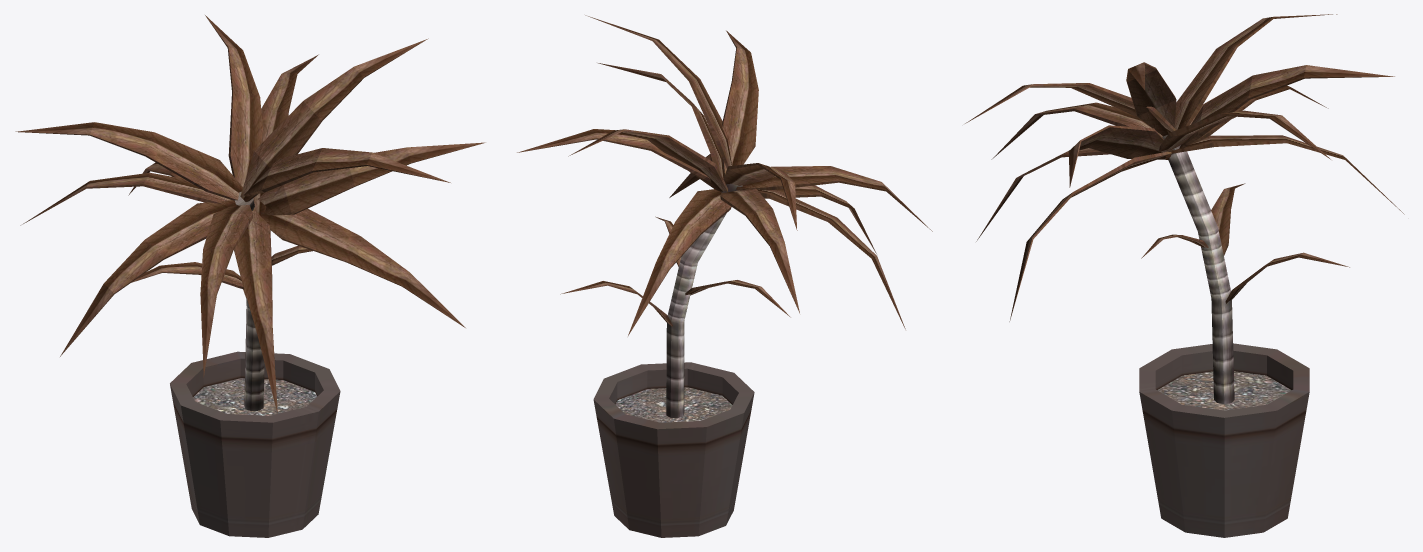
The model's file is Plant4.obj.
The picture shows the model from 3 angles, left to right: view 1: azimuth 30°, elevation 25°; view 2: azimuth 150°, elevation 25°; view 3: azimuth 270°, elevation 25°; orthographic projection. The views are drawn at different scales.
Visible parts, largest first — view 1: plant_plant.008; view 2: plant_plant.008; view 3: plant_plant.008.
Boxes of the visible parts, bbox=[...] form: plant_plant.008: bbox=[15, 15, 485, 537]; plant_plant.008: bbox=[517, 15, 932, 537]; plant_plant.008: bbox=[965, 14, 1404, 537].
Bounding box in the file's own units: 7.6 × 8.97 × 7.44.
1 material, 1 textured.
